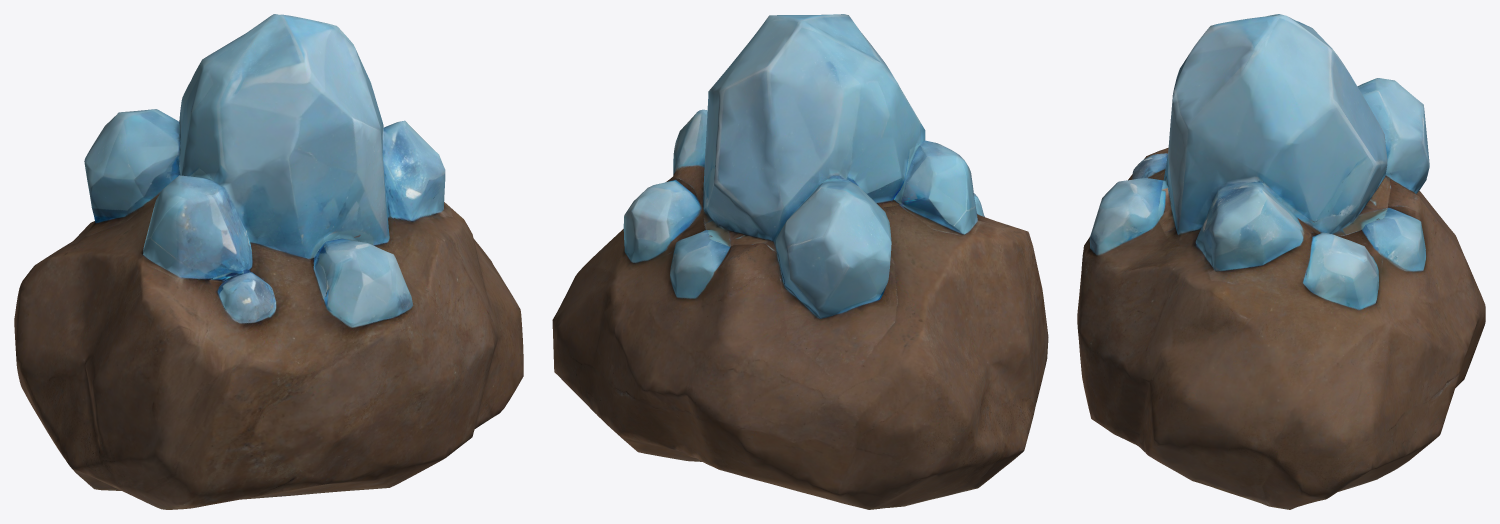
The model's file is mithril_ore.glb.
The picture shows the model from 3 angles, left to right: view 1: azimuth 30°, elevation 25°; view 2: azimuth 150°, elevation 25°; view 3: azimuth 270°, elevation 25°; orthographic projection. The views are drawn at different scales.
Bounding box in the file's own units: 2 × 1.89 × 1.67.
1 material, 1 textured.
